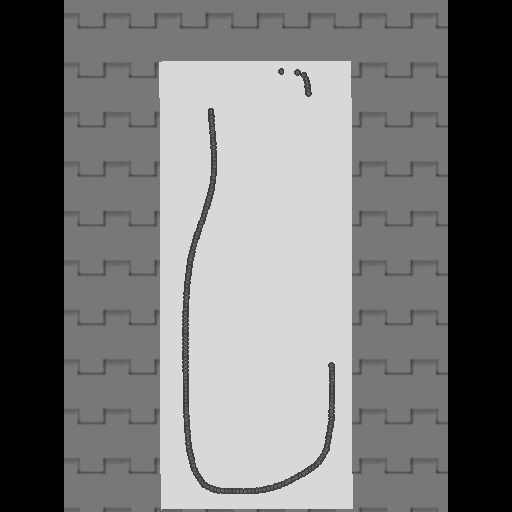Defect: (298, 92, 339, 364)
